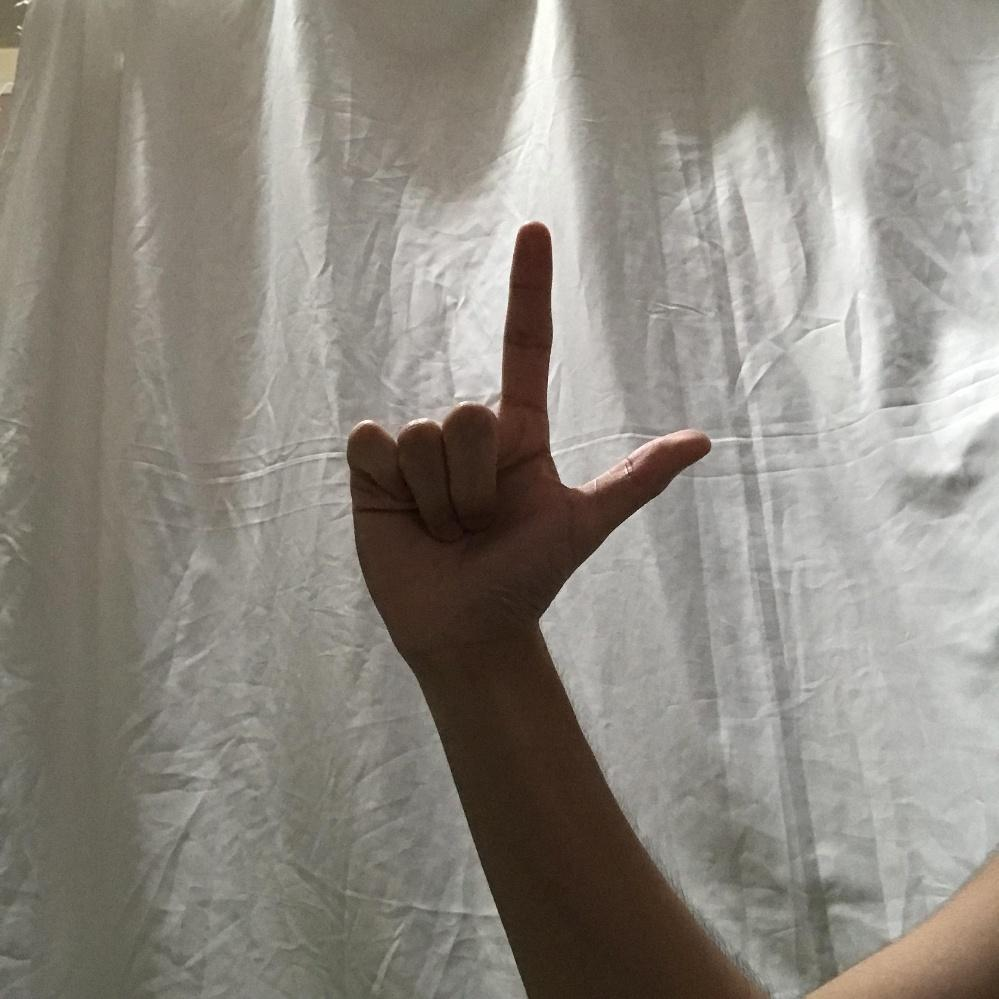l: (346, 223, 708, 644)
